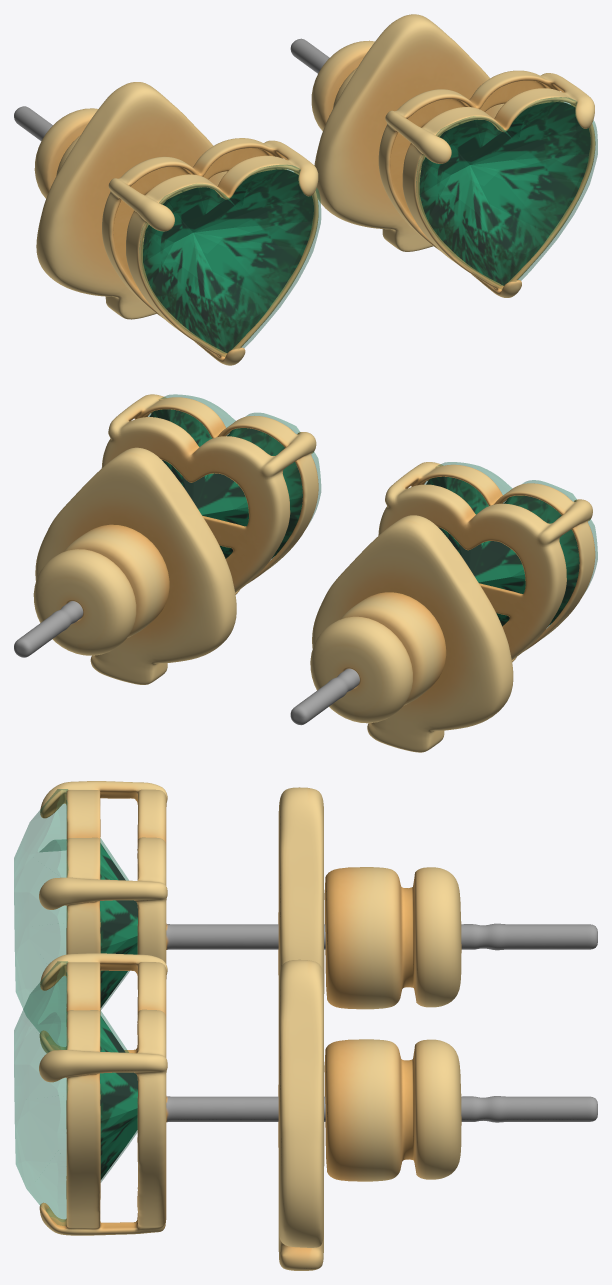
The model's file is earring_B09NVVHWYV_kateSpadeLoveHeart_greenGemGoldMetal.glb.
The picture shows the model from 3 angles, top to bottom: view 1: azimuth 30°, elevation 25°; view 2: azimuth 150°, elevation 25°; view 3: azimuth 270°, elevation 25°; orthographic projection. The views are drawn at different scales.
Parts seen in each view (by area): view 1: Earring_Left_0, Earring_Right_0; view 2: Earring_Left_0, Earring_Right_0; view 3: Earring_Right_0, Earring_Left_0.
Boxes of the visible parts, x1,y1,x2,y2 form: Earring_Left_0: (14,82,320,365); Earring_Right_0: (290,14,597,297); Earring_Left_0: (290,462,597,752); Earring_Right_0: (14,394,320,684); Earring_Right_0: (14,953,597,1270); Earring_Left_0: (14,781,597,1053).
Size of the model in its own units: 0.0223 by 0.0103 by 0.0188.
4 materials, 4 textured.
